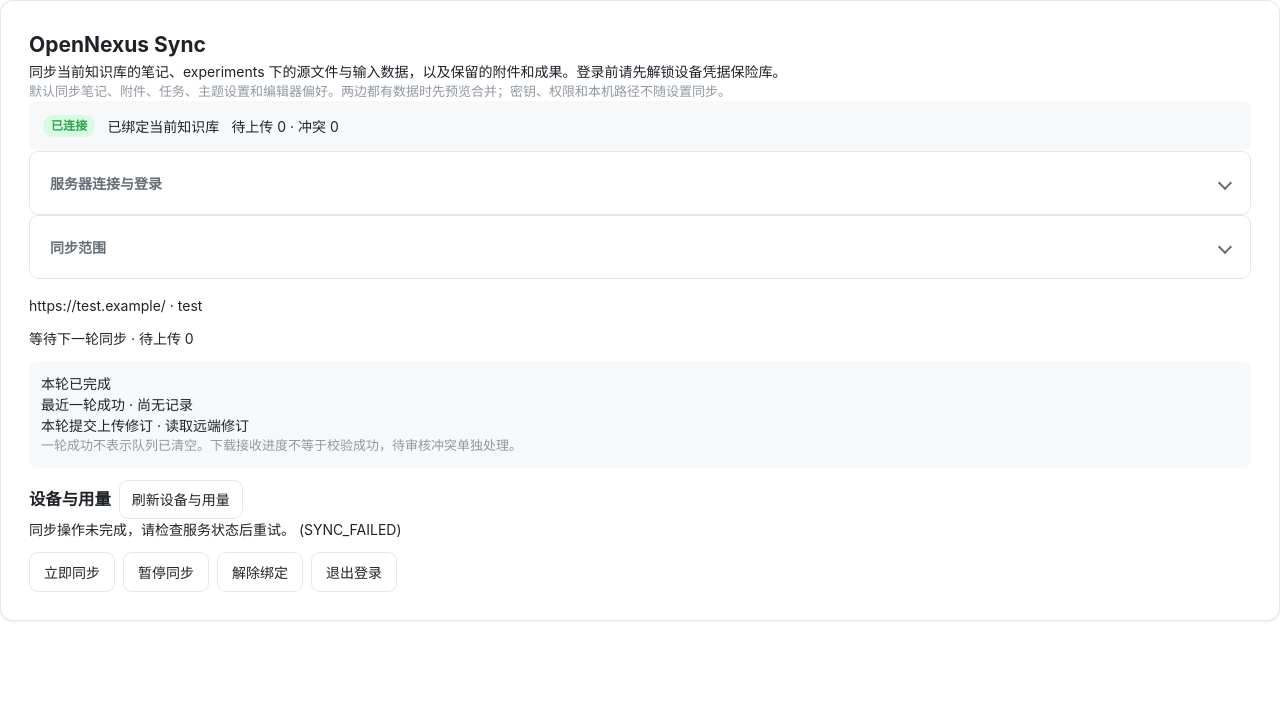
keeps an unrelated operation error when a completed cycle is polled
What coordinates should you click on to do the following:
click the button "解除绑定"
I would click on:
 (260, 572)
Its box is 217,552 -> 303,592.
Wait 3000 ms
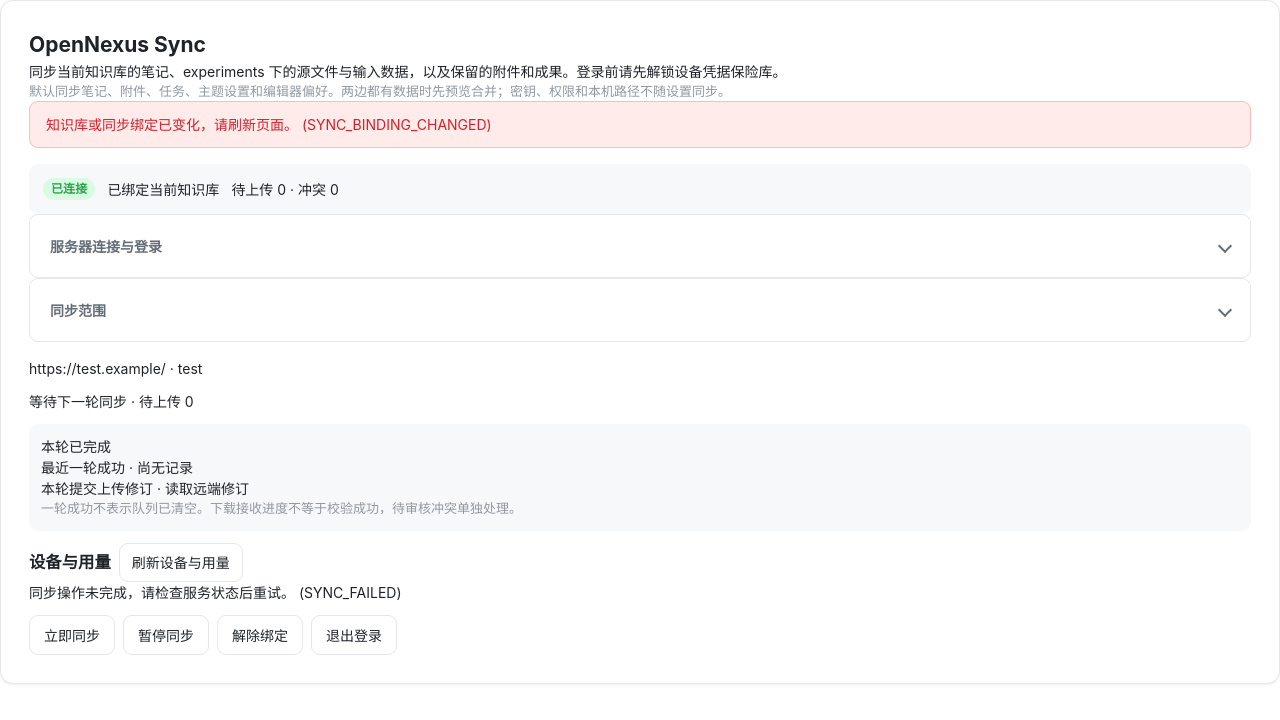
Expected: the message "知识库或同步绑定已变化，请刷新页面。 (SYNC_BINDING_CHANGED)" is shown, 29,101 -> 1251,148
